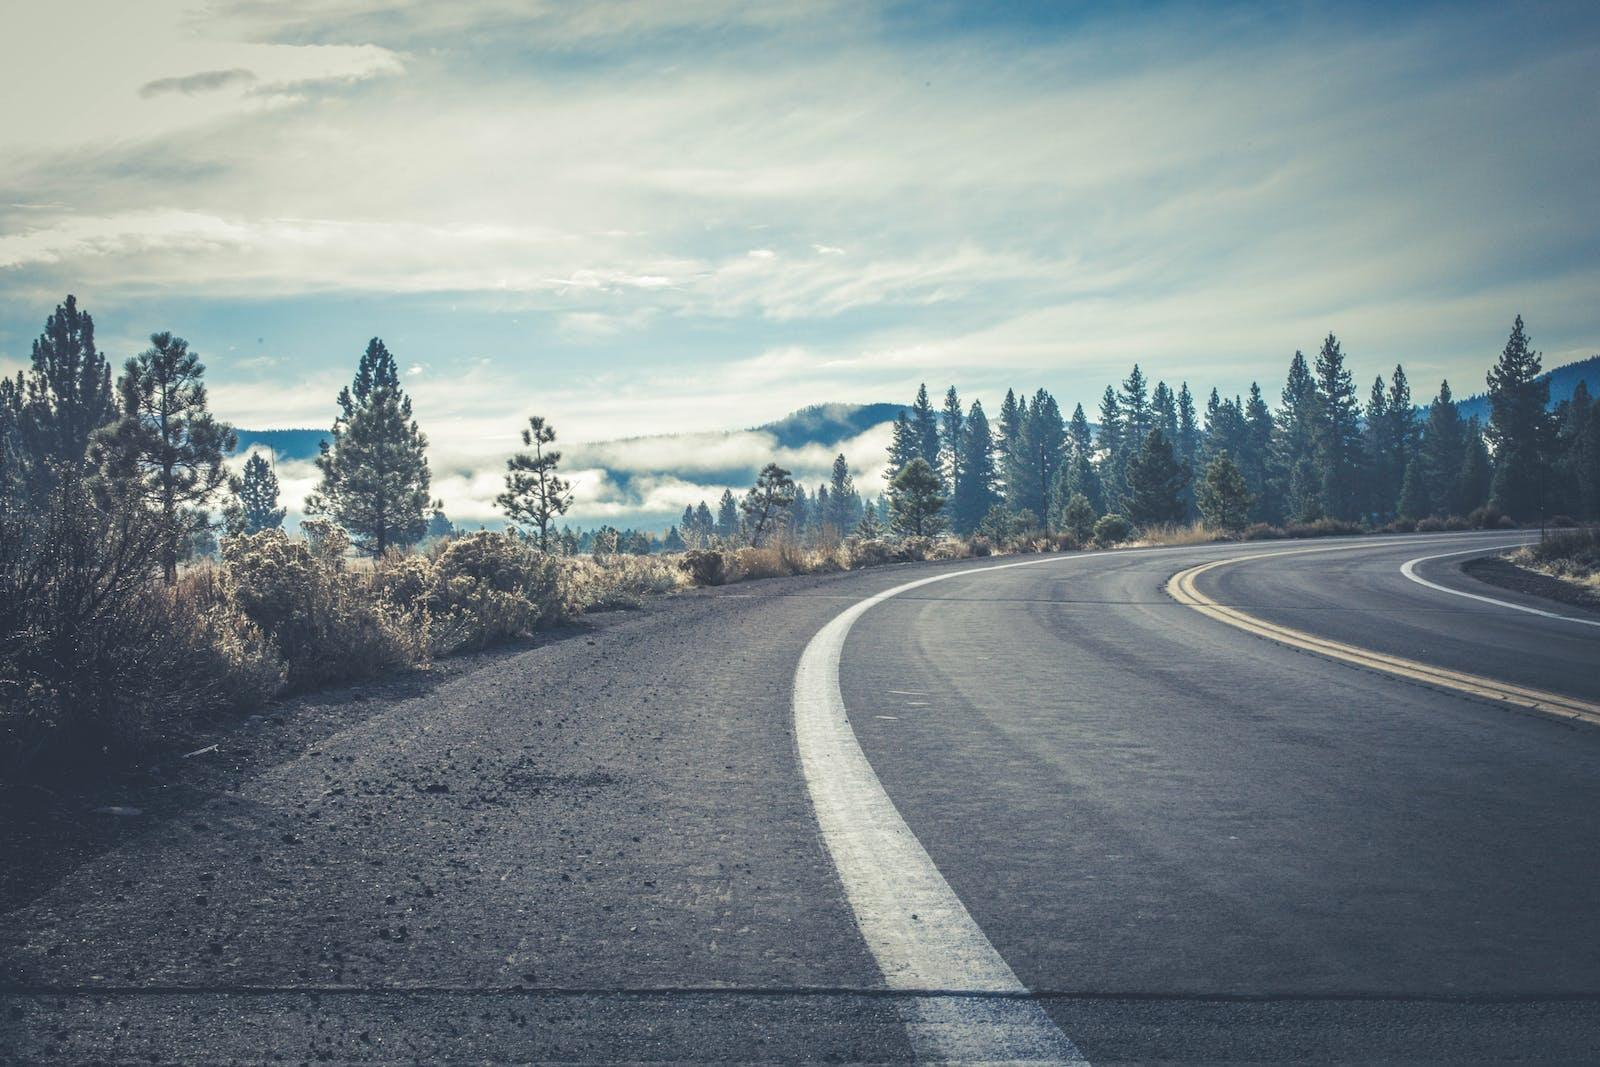road: (0, 562, 1042, 1063), (839, 547, 1599, 1063), (1194, 533, 1599, 703)
